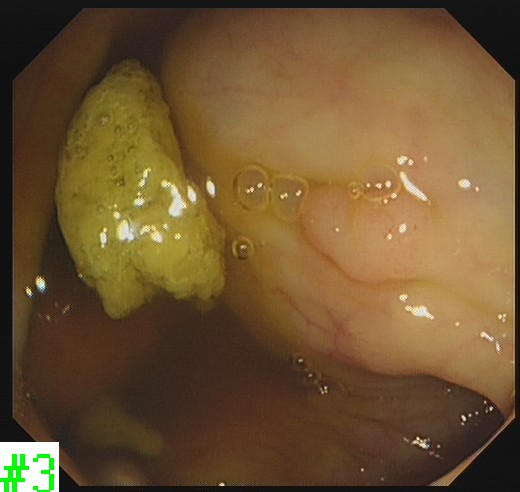adenoma: (298, 181, 444, 285)
